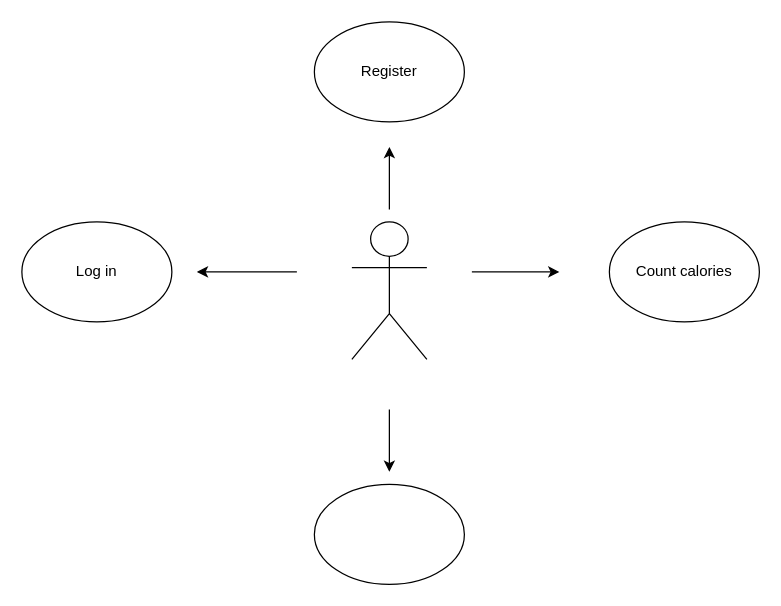
The diagram is 781 pixels wide and 606 high, and some of its shapes have lost their labels. Here are the shapes that lost their labels. From the top down, the centre of each, then its label:
(389,290): User
(388,533): Look at the interface
